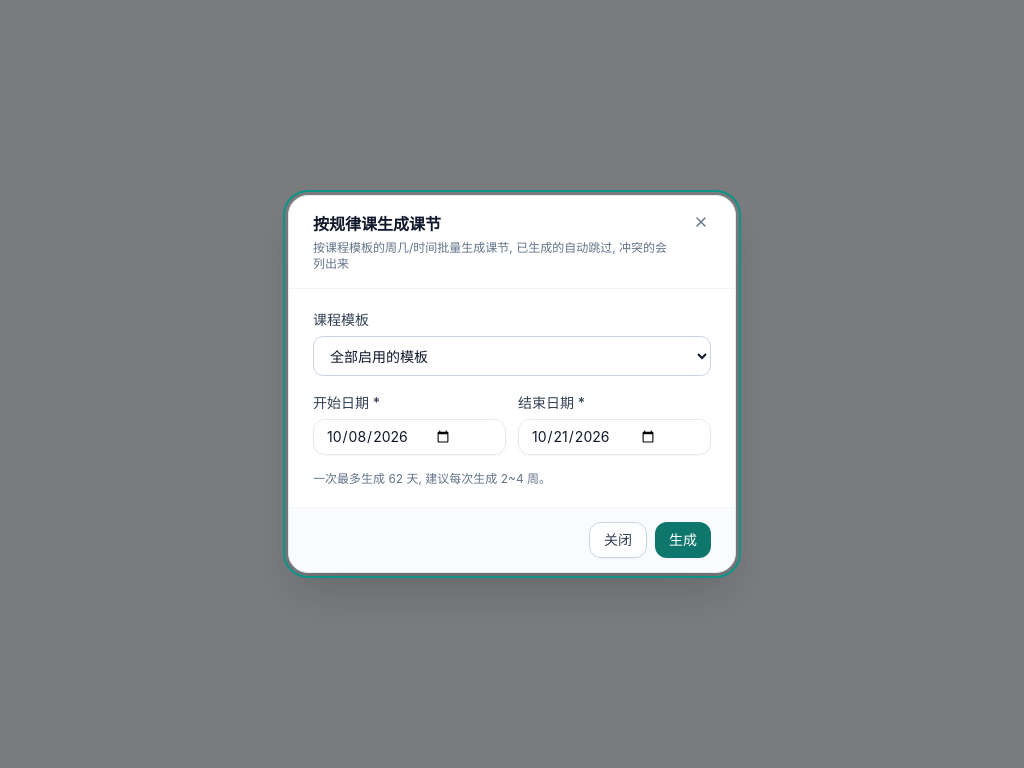
Test: 批量生成成功会通知刷新课表，生成结果仍可查看
The width and height of the screenshot is (1024, 768).
Click the button "生成" at (683, 540), box [655,522,711,558]
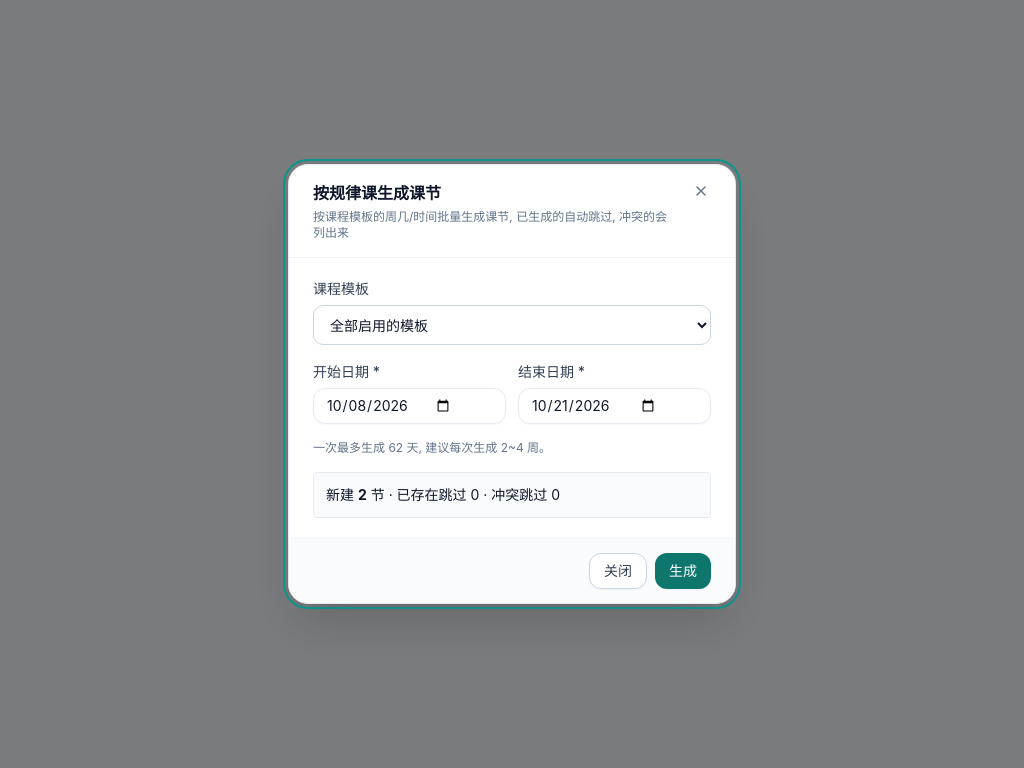
Check: the heading "按规律课生成课节" is shown, box [313,183,441,203]
Check: the text "新建 2 节 · 已存在跳过 0 · 冲突跳过 0" is shown, box [326,486,560,503]
